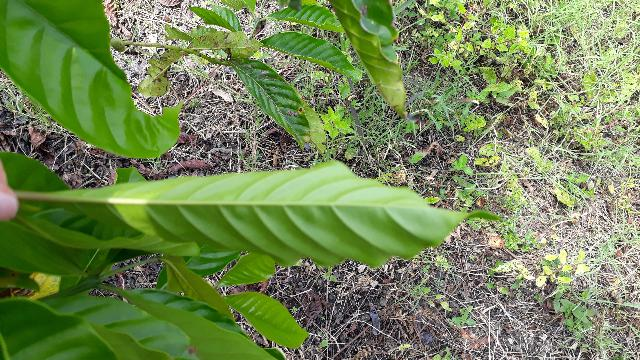healthy: (53, 160, 504, 269)
